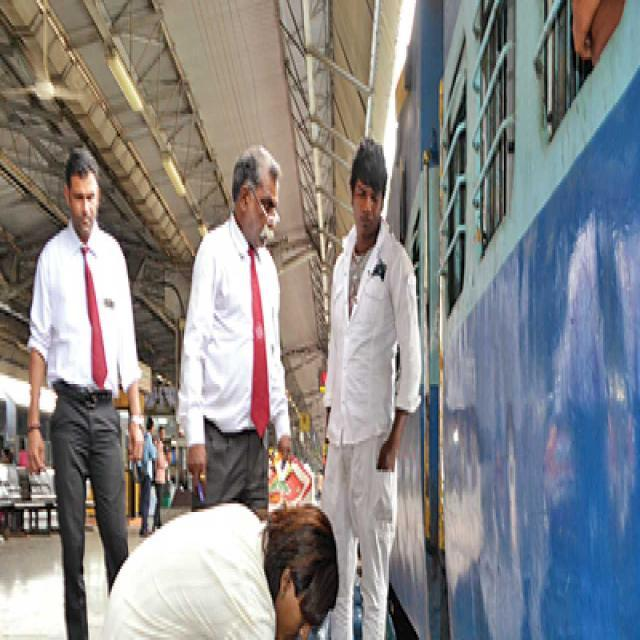bareface: (233, 140, 279, 252), (281, 558, 320, 640), (62, 148, 94, 245), (350, 164, 382, 238)
